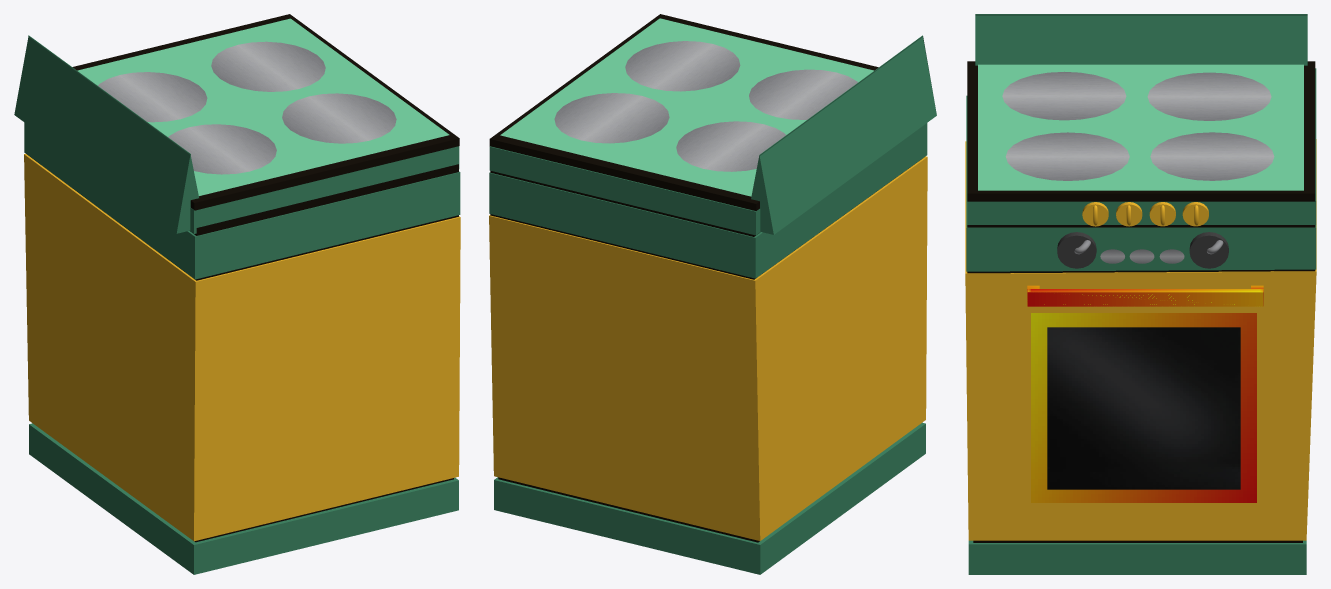
File: Estufa.obj
3 renders of one model, left to right at view 1: azimuth 30°, elevation 25°; view 2: azimuth 150°, elevation 25°; view 3: azimuth 270°, elevation 25°, orthographic. The views are drawn at different scales.
Visible parts, largest first — view 1: Estufa:pCylinder7; view 2: Estufa:pCylinder7; view 3: Estufa:pCylinder7.
Part boxes in pixels (x1,y1,x2,y2): Estufa:pCylinder7: (14,14,460,574); Estufa:pCylinder7: (489,14,936,574); Estufa:pCylinder7: (965,14,1316,574).
Bounding box in the file's own units: 0.6796 × 0.929 × 0.6903.
Materials: 9 (9 with a texture image).
